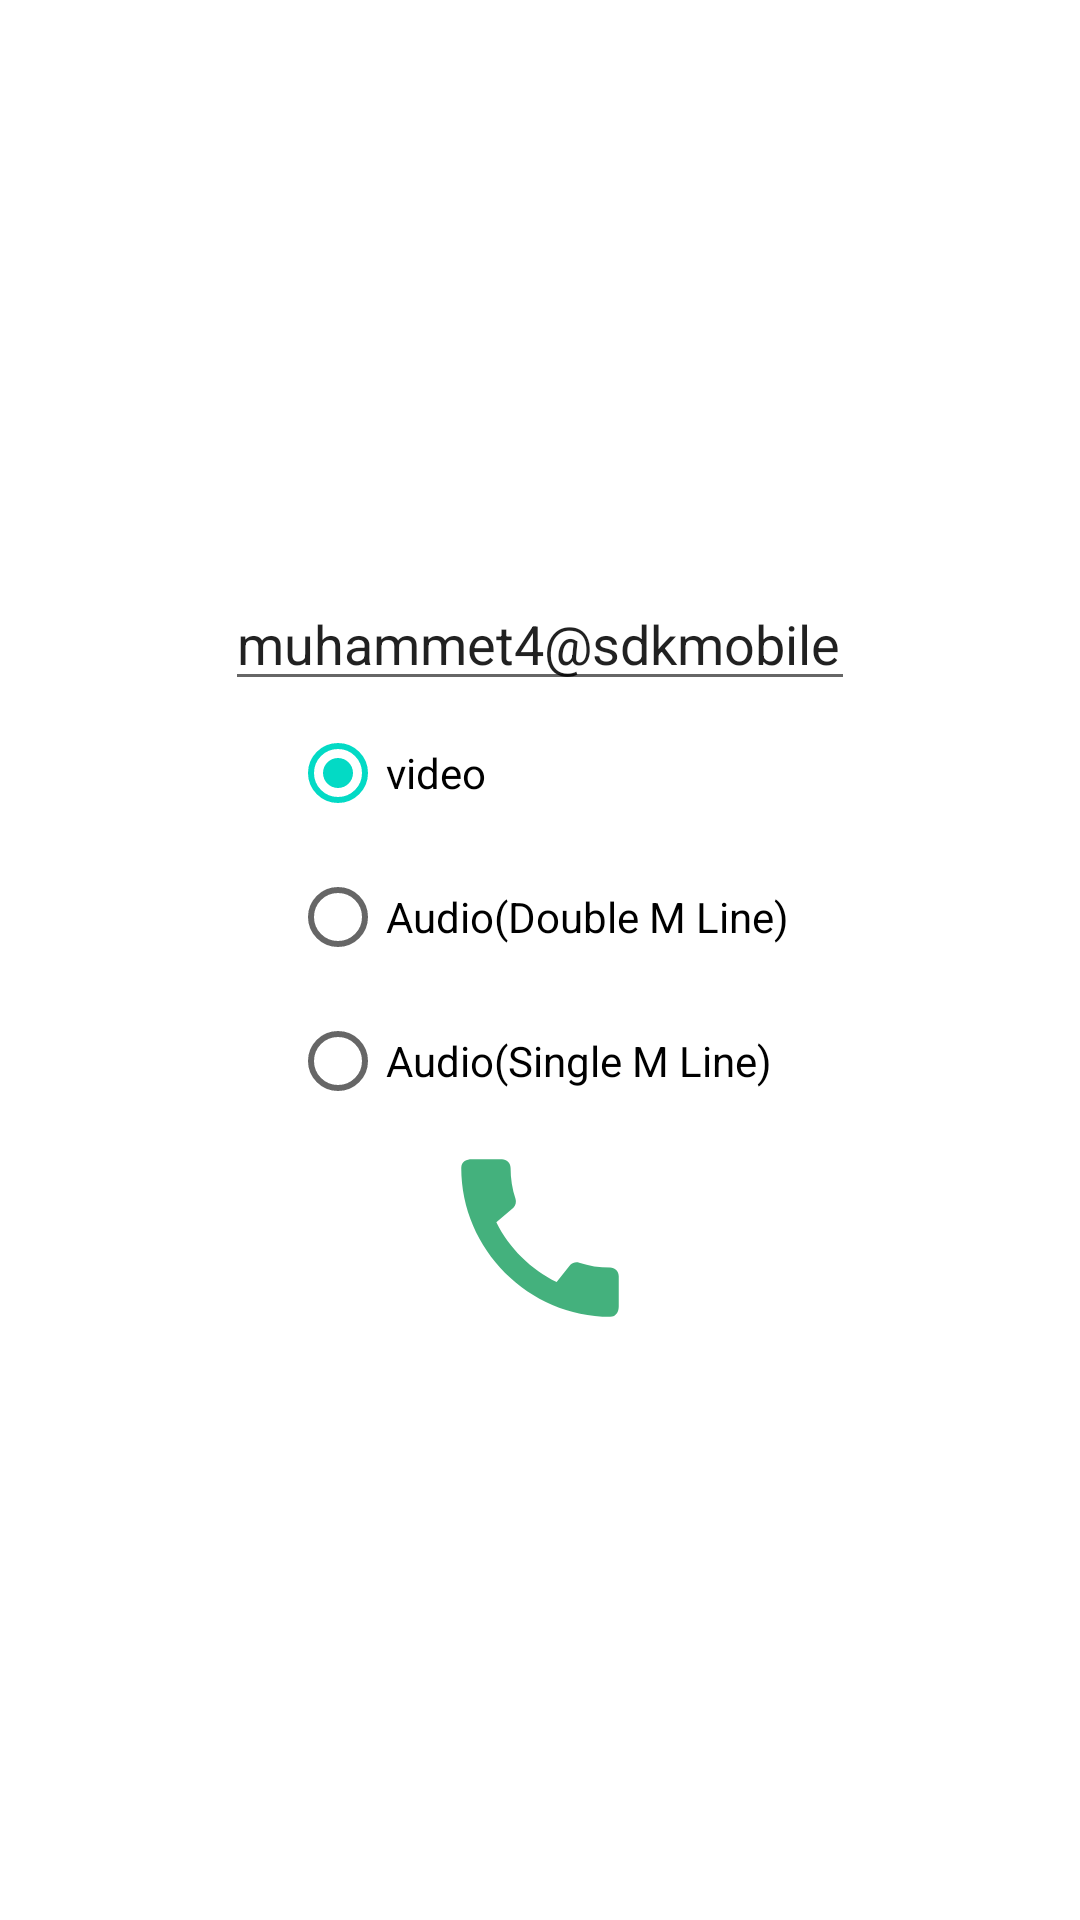

Icon click points for this 1080×1920 phone screenshot, format (x=x, y=y):
call: (x=540, y=1238)
